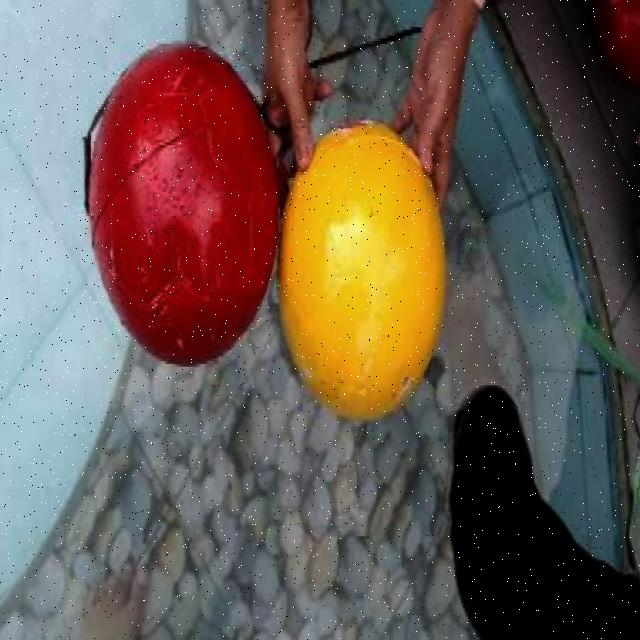buoy: (85, 40, 278, 365), (278, 119, 446, 417)
